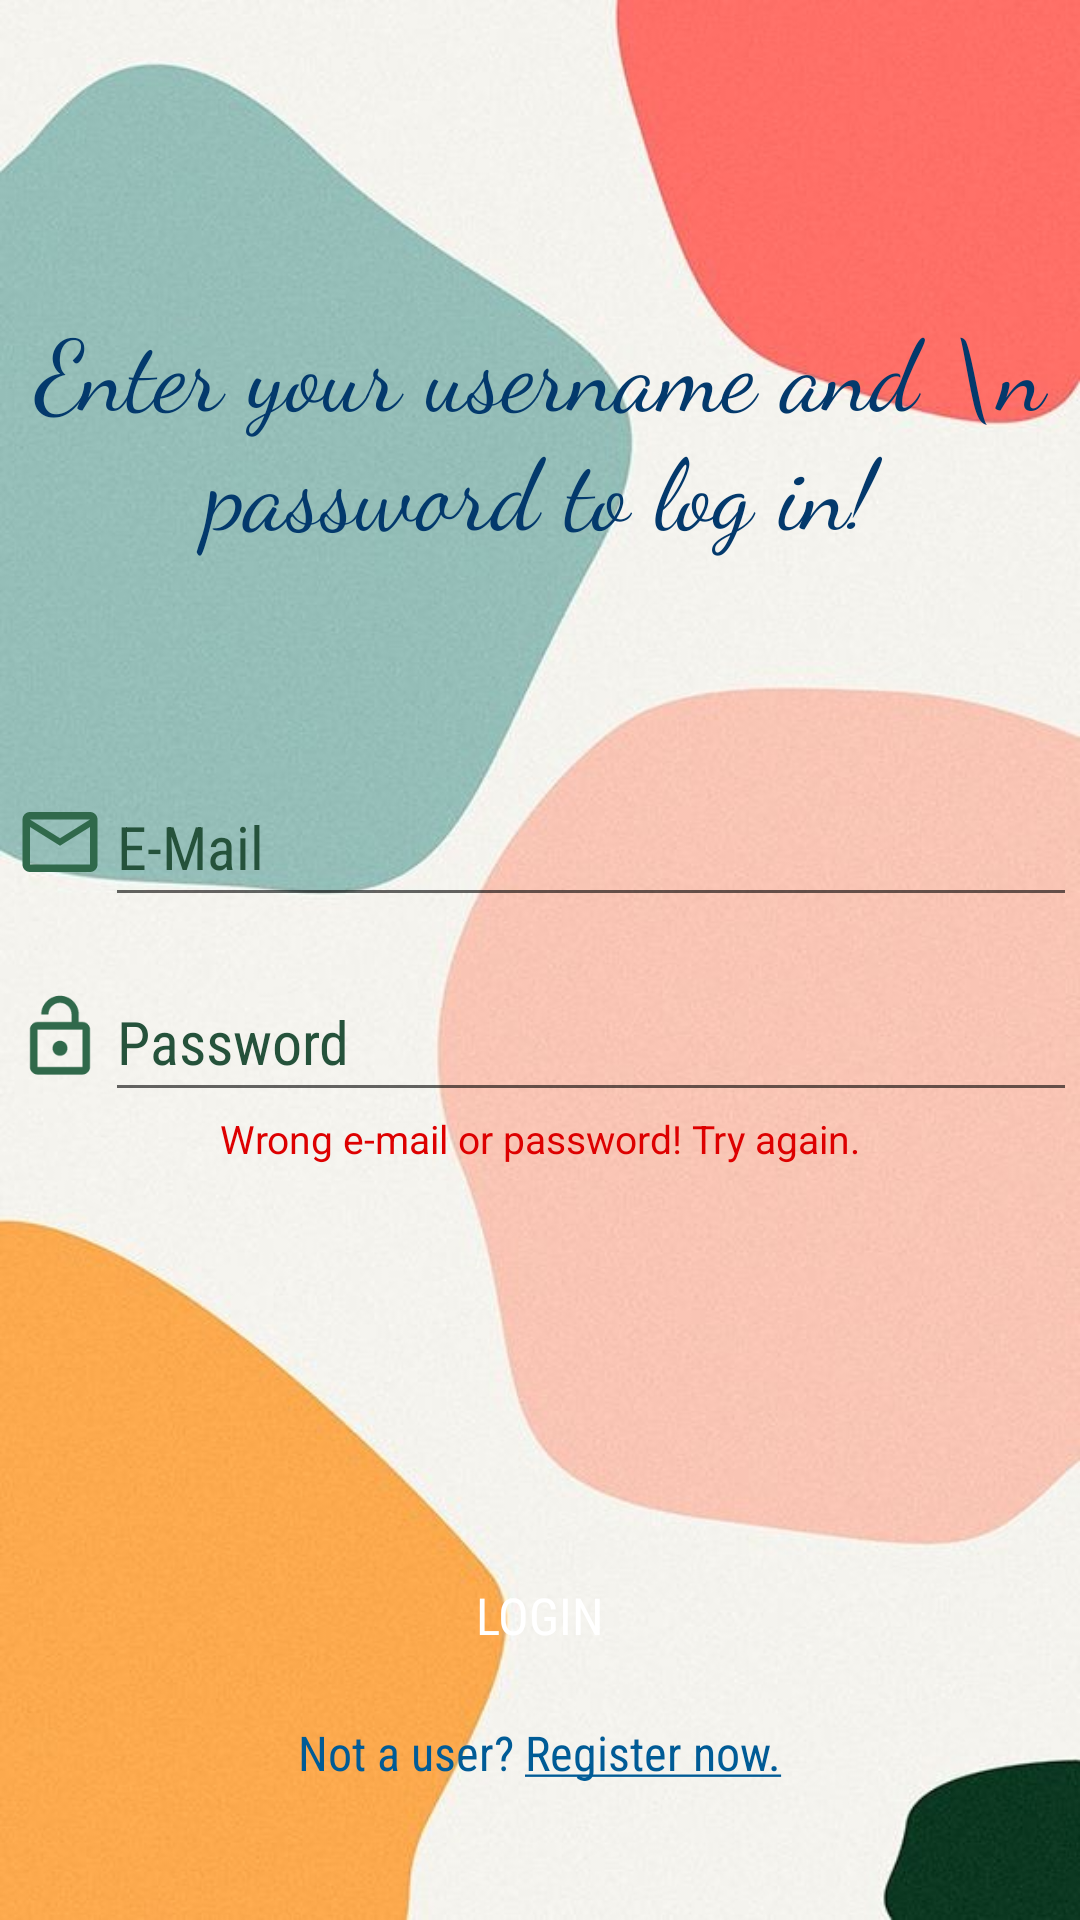

Named icons in this screenshot (1080x1920) and their bounding boxes, box=[x1, y1, x2, y2]:
lock open: box=[29, 995, 91, 1075]
